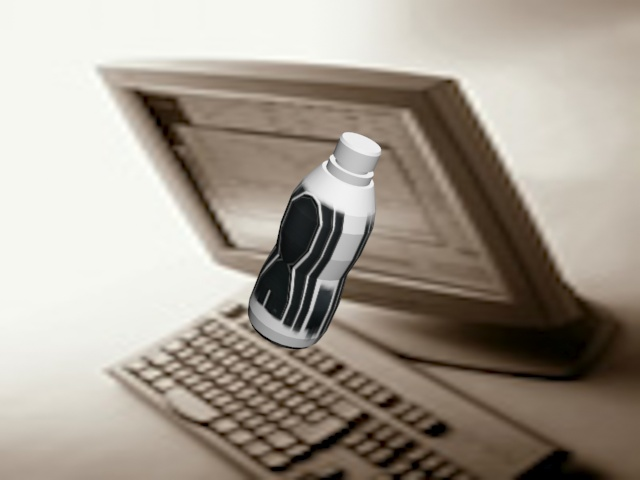bottle: (241, 129, 384, 352)
